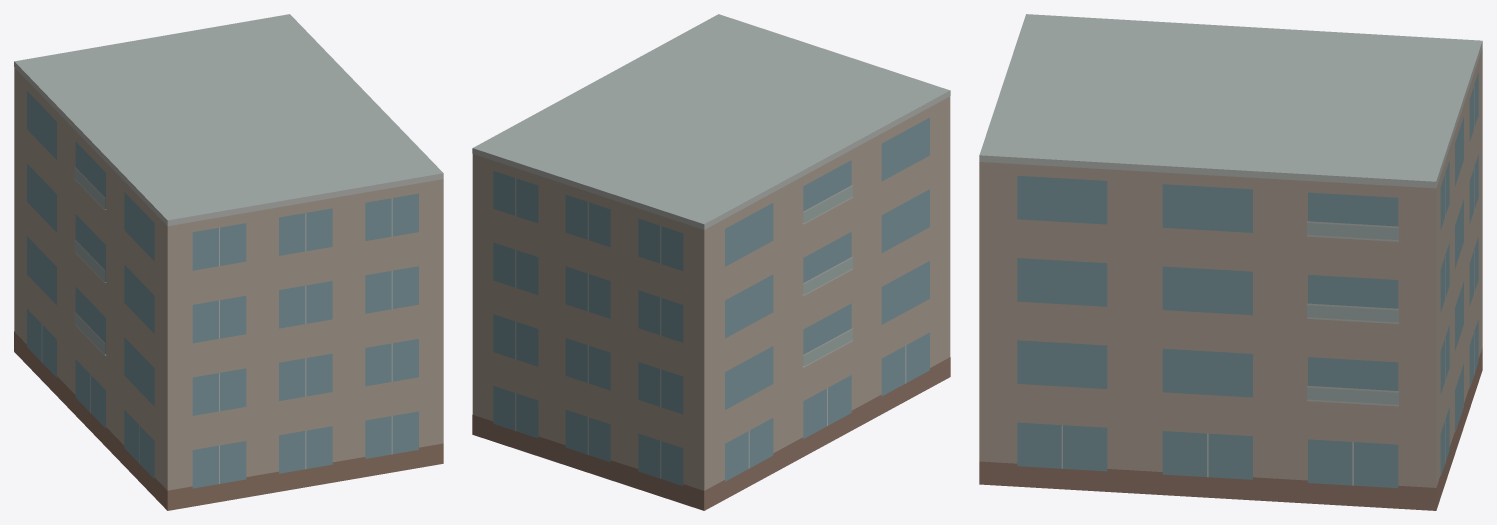
Rendered from survey-upis-32994804.glb.
The picture shows the model from 3 angles, left to right: view 1: azimuth 30°, elevation 25°; view 2: azimuth 150°, elevation 25°; view 3: azimuth 270°, elevation 25°; orthographic projection. The views are drawn at different scales.
Parts seen in each view (by area): view 1: survey-upis-32994804.tmp; view 2: survey-upis-32994804.tmp; view 3: survey-upis-32994804.tmp.
Part boxes in pixels (x1,y1,x2,y2): survey-upis-32994804.tmp: (14,14,443,510); survey-upis-32994804.tmp: (472,14,950,510); survey-upis-32994804.tmp: (979,14,1482,510).
Size of the model in its own units: 13.34 by 12.2 by 16.92.
